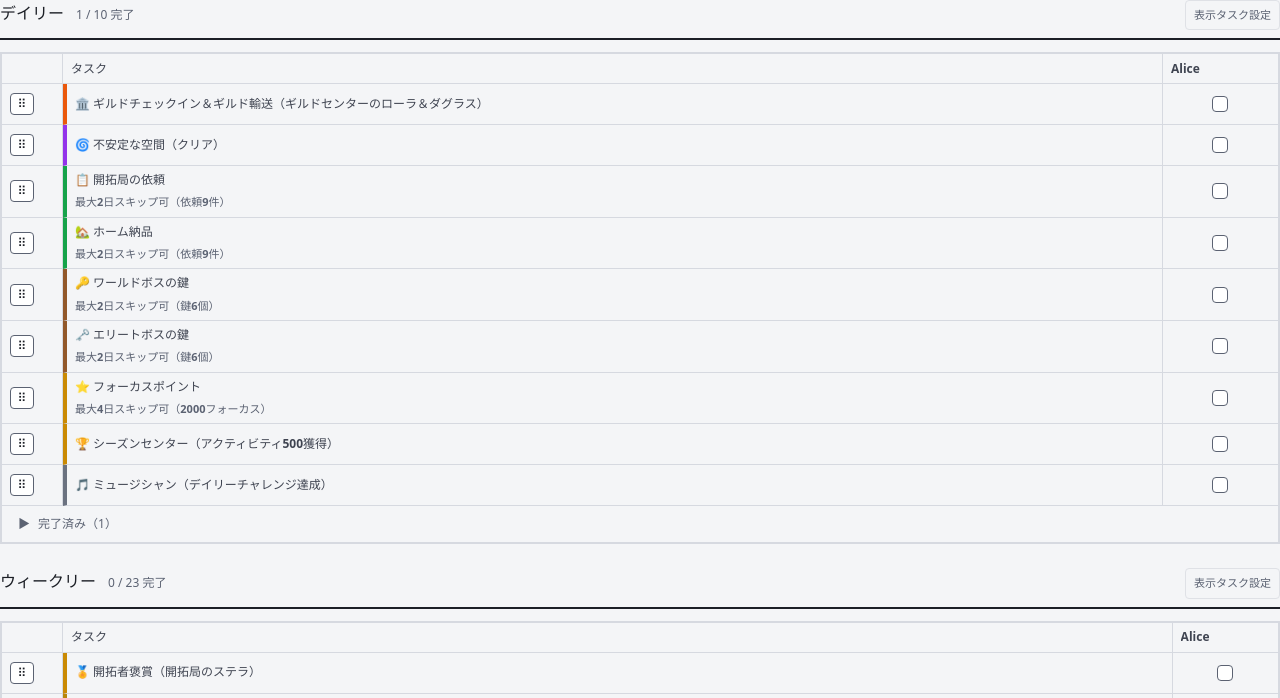
Test: MatrixView / completed task accordion › moves a fully-completed row into the accordion, opens it without side effects, and collapses again on a fresh render
Click the button "▶ 完了済み（1）".
click(67, 524)  # box [10,510,125,538]
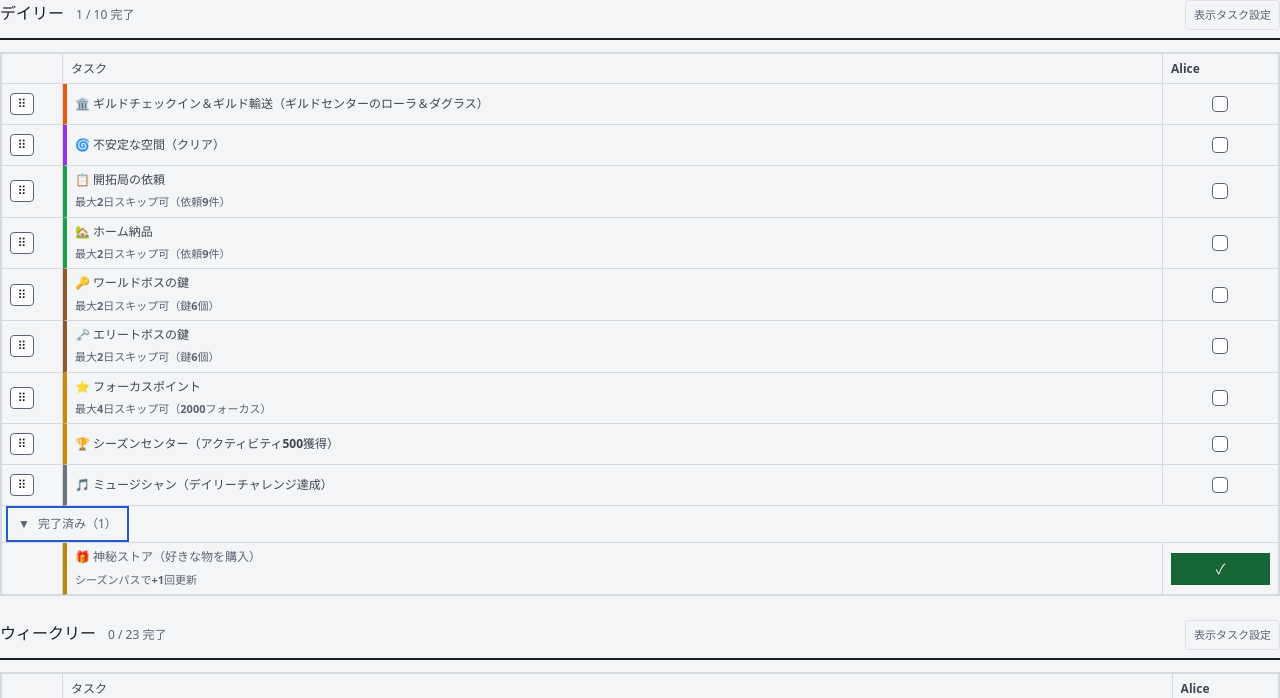
Result: the column heading titled "🎁 神秘ストア（好きな物を購入）| シーズンパスで+1回更新" is shown at [63,543,1163,595]
